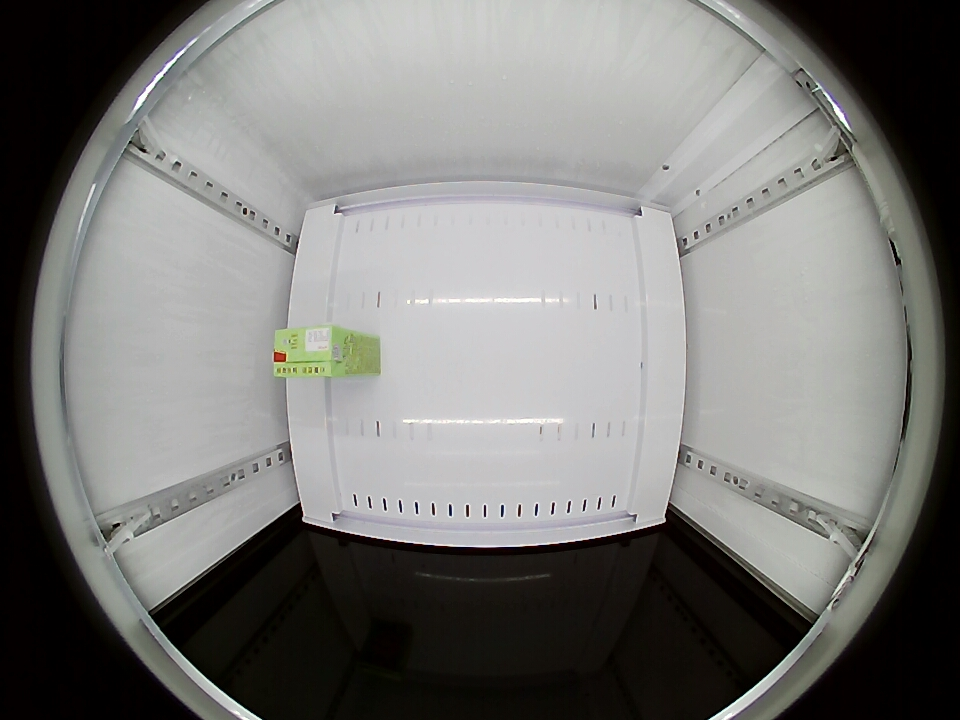wanglaoji: (272, 325, 348, 379)
